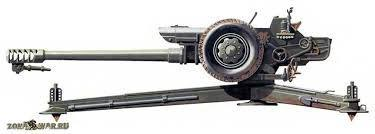sau: (3, 4, 375, 134)
